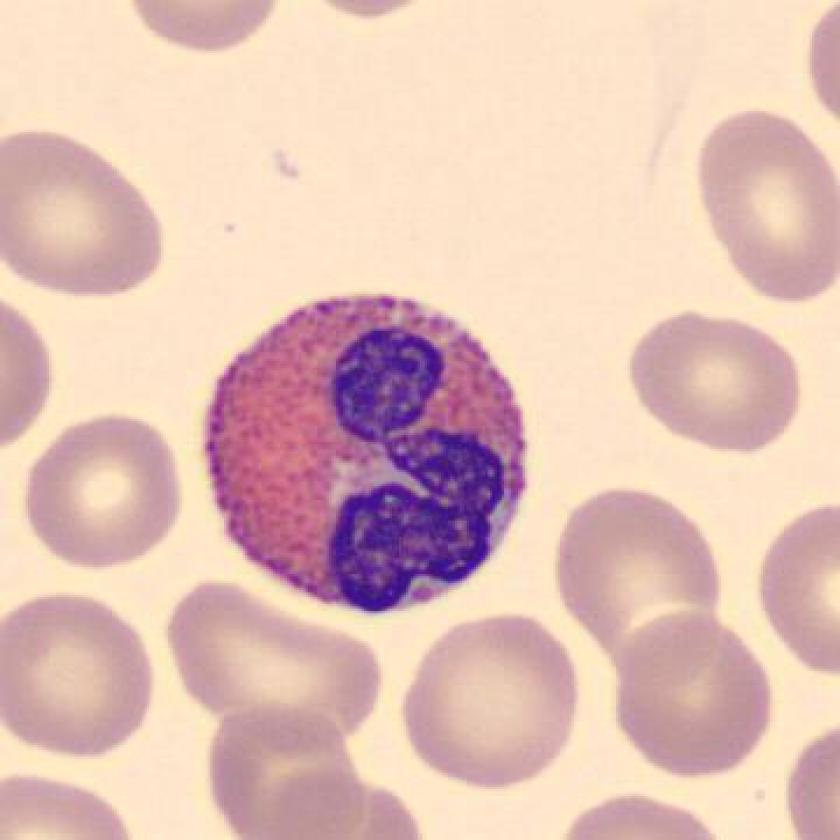eosinophil: (192, 279, 547, 635)
